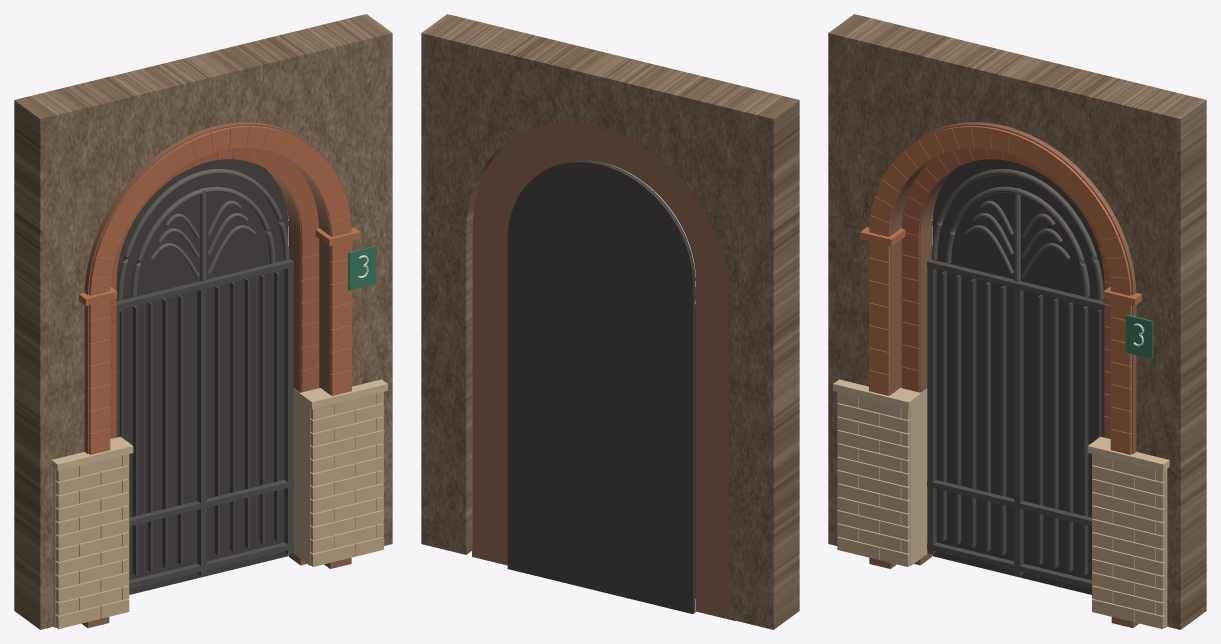
The model's file is huangdu-lane17-no3-arched-street-door-near.glb.
3 views of the same model, side by side, from view 1: azimuth 30°, elevation 25°; view 2: azimuth 150°, elevation 25°; view 3: azimuth 330°, elevation 25° (orthographic).
Parts seen in each view (by area): view 1: 黄渡路17弄3号住宅临街双层砖券门; view 2: 黄渡路17弄3号住宅临街双层砖券门; view 3: 黄渡路17弄3号住宅临街双层砖券门.
Boxes of the visible parts, <box> form: 黄渡路17弄3号住宅临街双层砖券门: <box>14,14,392,629</box>; 黄渡路17弄3号住宅临街双层砖券门: <box>421,14,799,629</box>; 黄渡路17弄3号住宅临街双层砖券门: <box>828,14,1206,629</box>.
Bounding box in the file's own units: 2.18 × 3.06 × 0.354.
Materials: 11 (1 with a texture image).
